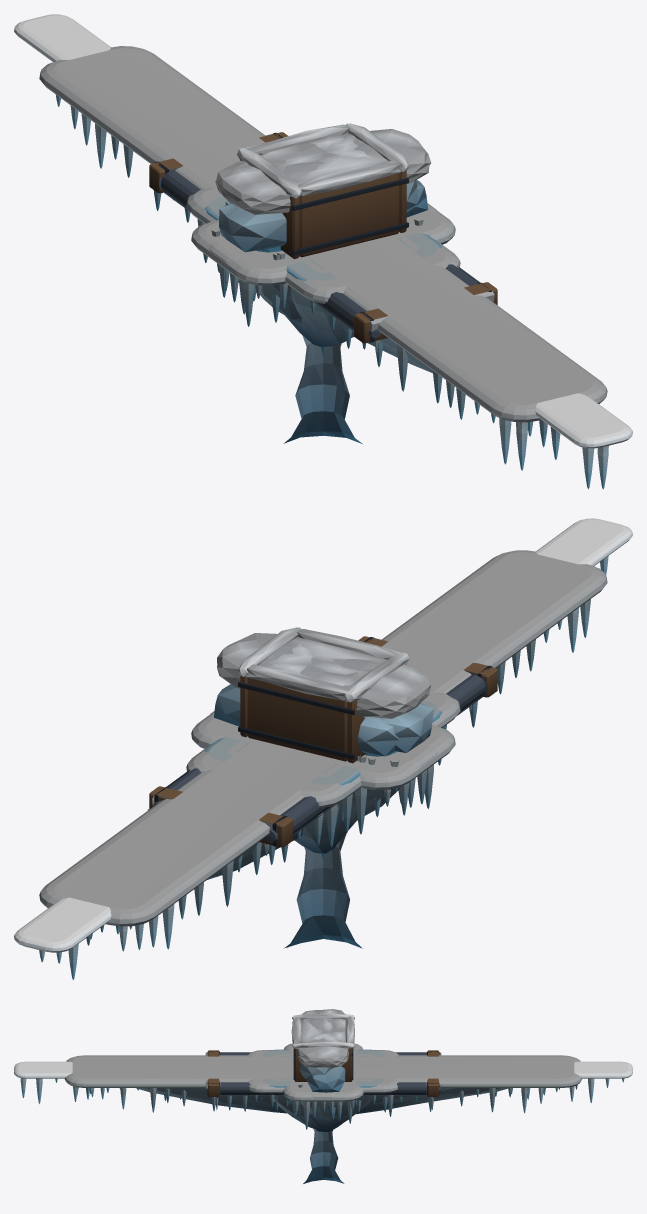
Rendered from glacier-4-BdWBlqBX.glb.
3 renders of one model, top to bottom at view 1: azimuth 30°, elevation 25°; view 2: azimuth 150°, elevation 25°; view 3: azimuth 270°, elevation 25°, orthographic. The views are drawn at different scales.
Parts seen in each view (by area): view 1: block_5x2x40#0, hopper_4x3#0, spout_7x2#0, block_2.5x2x48_grate#0, block_10x2x6#0, support_1_round#0, block_7x2x12#0, belt_6.5x1.5x18x1#0, spout_5x2#0, block_7x2x10_ice#0, block_10x2x3#0, block_10x2x4#0; view 2: block_5x2x40#0, hopper_4x3#0, spout_7x2#0, block_2.5x2x48_grate#0, block_10x2x6#0, support_1_round#0, block_7x2x12#0, belt_6.5x1.5x18x1#0, spout_5x2#0, block_7x2x10_ice#0, block_10x2x3#0; view 3: block_5x2x40#0, spout_7x2#0, block_2.5x2x48_grate#0, block_7x2x12#0, belt_6.5x1.5x18x1#0, block_10x2x6#0, hopper_4x3#0, support_1_round#0, block_7x2x10_ice#0, spout_5x2#0, block_10x2x4#0, block_10x2x3#0 (+1 smaller).
Part boxes in pixels (box(x1,y1,x2,y2)): block_5x2x40#0: box(39, 46, 607, 470); hopper_4x3#0: box(237, 123, 409, 258); spout_7x2#0: box(211, 129, 431, 260); block_2.5x2x48_grate#0: box(14, 14, 632, 489); block_10x2x6#0: box(191, 211, 455, 323); support_1_round#0: box(283, 335, 362, 443); block_7x2x12#0: box(186, 188, 460, 346); belt_6.5x1.5x18x1#0: box(149, 132, 497, 355); spout_5x2#0: box(261, 135, 378, 259); block_7x2x10_ice#0: box(204, 196, 442, 346); block_10x2x3#0: box(208, 203, 437, 301); block_10x2x4#0: box(207, 211, 438, 326); block_5x2x40#0: box(39, 550, 607, 951); hopper_4x3#0: box(237, 627, 409, 763); spout_7x2#0: box(214, 633, 434, 766); block_2.5x2x48_grate#0: box(14, 518, 632, 979); block_10x2x6#0: box(191, 715, 455, 834); support_1_round#0: box(284, 832, 362, 948); block_7x2x12#0: box(186, 692, 460, 853); belt_6.5x1.5x18x1#0: box(147, 636, 497, 855); spout_5x2#0: box(260, 642, 392, 761); block_7x2x10_ice#0: box(205, 700, 442, 833); block_10x2x3#0: box(209, 711, 438, 817); block_5x2x40#0: box(65, 1055, 581, 1114); spout_7x2#0: box(297, 1009, 348, 1092); block_2.5x2x48_grate#0: box(14, 1061, 632, 1103); block_7x2x12#0: box(248, 1050, 398, 1131); belt_6.5x1.5x18x1#0: box(205, 1050, 441, 1109); block_10x2x6#0: box(283, 1043, 363, 1124); hopper_4x3#0: box(291, 1013, 354, 1081); support_1_round#0: box(303, 1128, 344, 1183); block_7x2x10_ice#0: box(263, 1049, 383, 1131); spout_5x2#0: box(308, 1018, 345, 1041); block_10x2x4#0: box(303, 1097, 342, 1129); block_10x2x3#0: box(308, 1085, 335, 1119).
Bounding box in the file's own units: 10.36 × 13.91 × 48.22.
